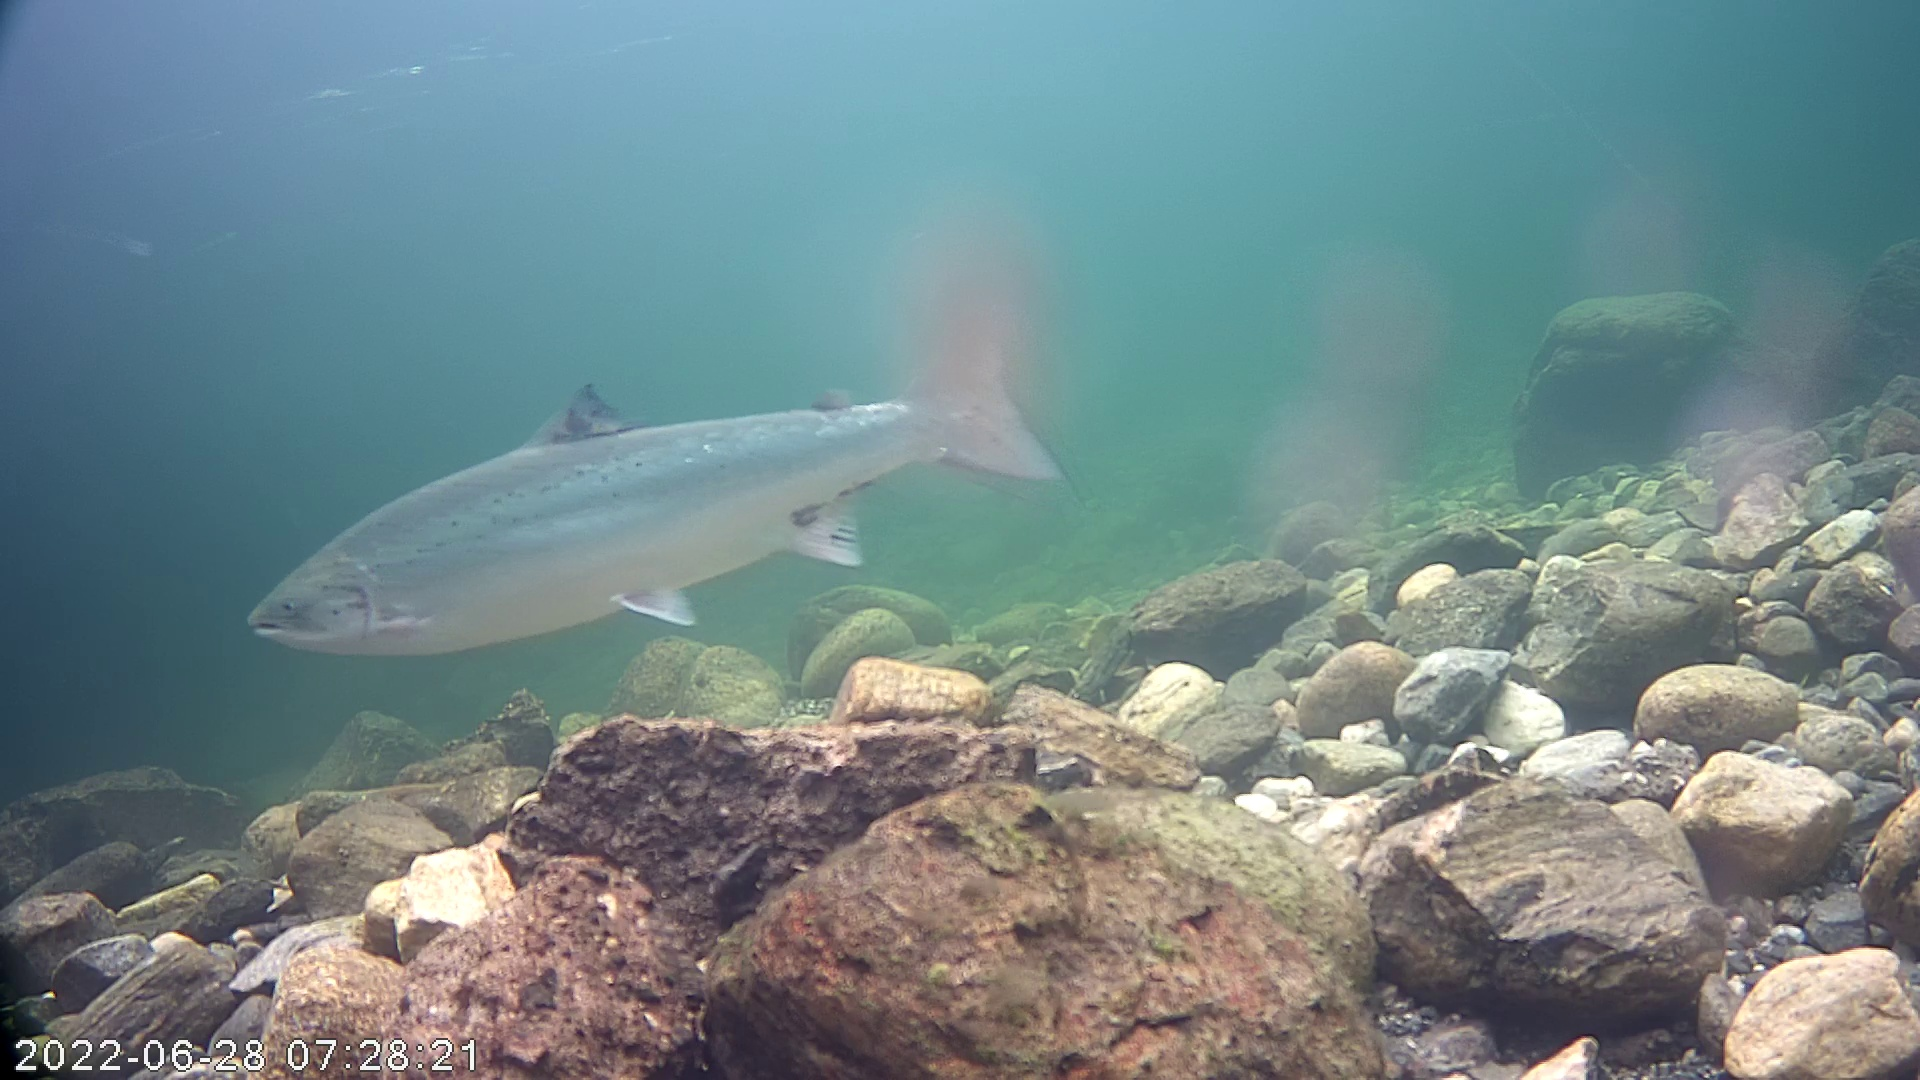salmon: (237, 253, 1087, 702)
